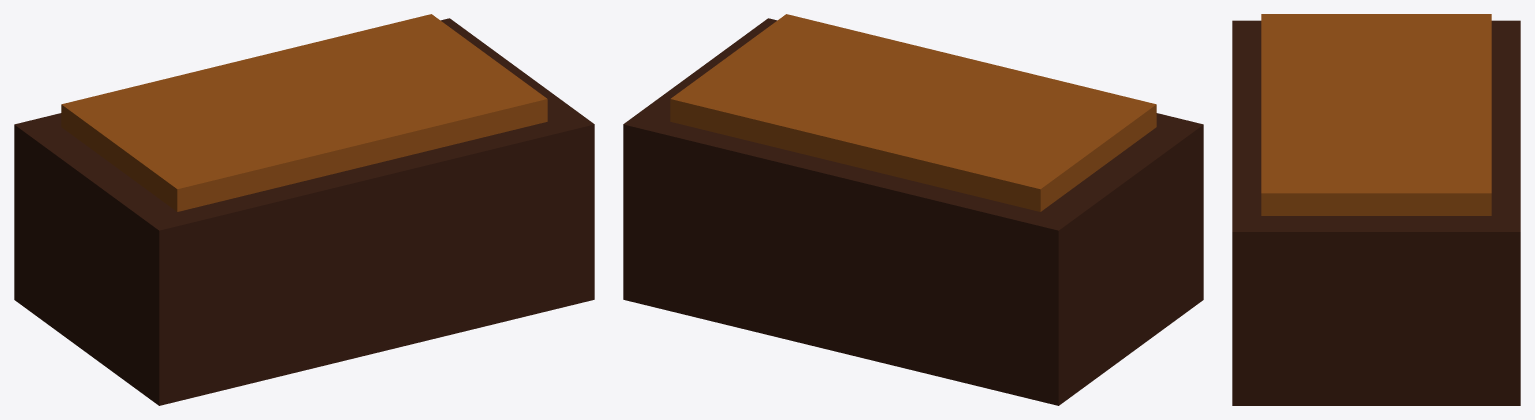
The model's file is tripod.obj.
3 views of the same model, side by side, from view 1: azimuth 30°, elevation 25°; view 2: azimuth 150°, elevation 25°; view 3: azimuth 270°, elevation 25° (orthographic).
Visible parts, largest first — view 1: dark_wood, brass; view 2: dark_wood, brass; view 3: dark_wood, brass.
Part boxes in pixels (left/top/right/bottom): dark_wood: left=14, top=18, right=594, bottom=405; brass: left=61, top=14, right=547, bottom=211; dark_wood: left=623, top=18, right=1203, bottom=405; brass: left=670, top=14, right=1156, bottom=211; dark_wood: left=1232, top=20, right=1520, bottom=405; brass: left=1261, top=14, right=1491, bottom=215.
Size of the model in its own units: 1.3 by 0.565 by 0.75.
